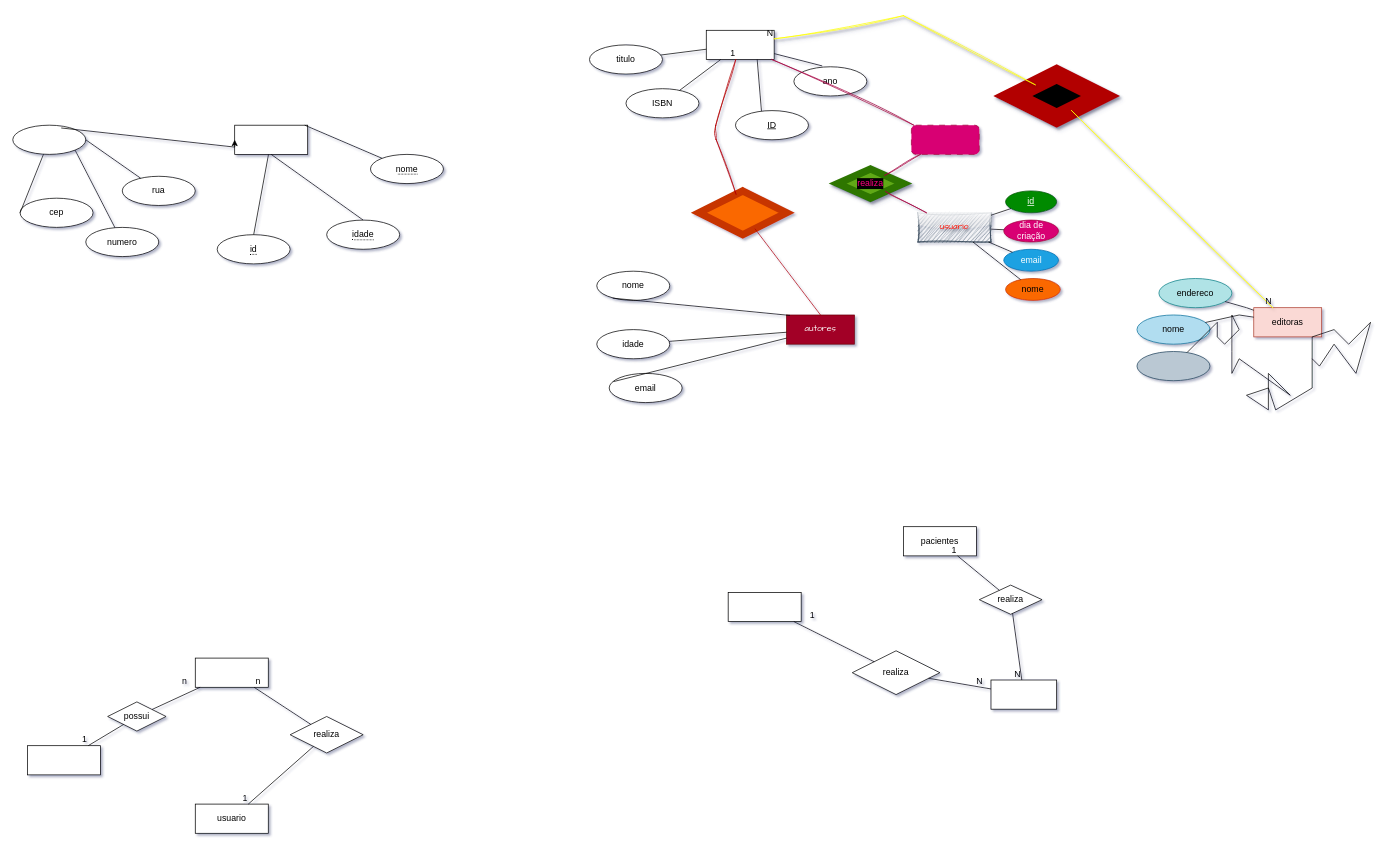
Some shapes in this 1388 by 850 pixel diagram are drawn without their labels. The centre of each missing label's shape, as x and y in pixels:
"consultas" belongs at (1023,694).
"empregado" belongs at (271,139).
"emprestimo" belongs at (231,672).
"emprestimos" belongs at (945,139).
"endereço" belongs at (49,139).
"escrito" belongs at (742,212).
"filme" belongs at (63,760).
"livros" belongs at (740,44).
"medicos" belongs at (764,607).
"publicar" belongs at (1057,96).
"telefone" belongs at (1173,366).
